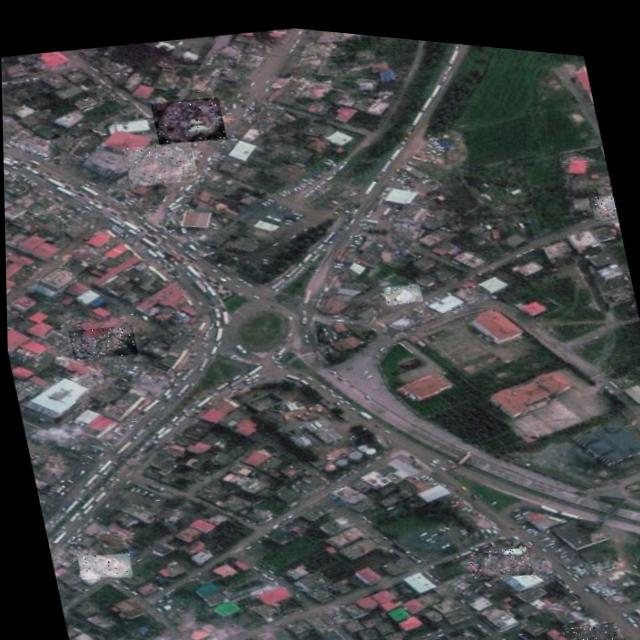Rubble: (150, 87, 227, 147), (122, 132, 199, 189), (67, 317, 137, 363), (464, 531, 532, 576), (74, 543, 132, 583), (562, 606, 619, 640), (382, 271, 422, 299), (589, 179, 617, 210)
